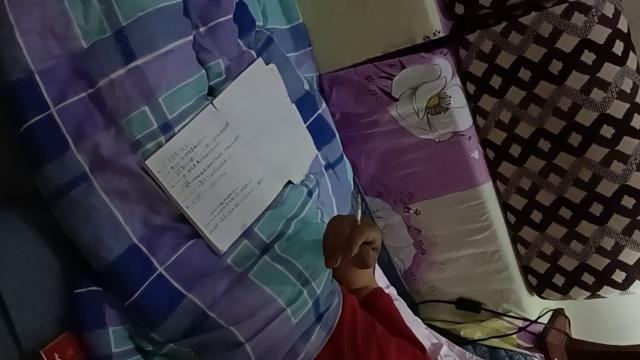Smoking: (356, 195, 360, 231)
